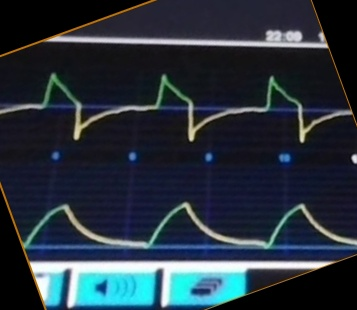Normal Flow: (1, 62, 334, 148)
Normal Volume: (26, 188, 356, 251)
